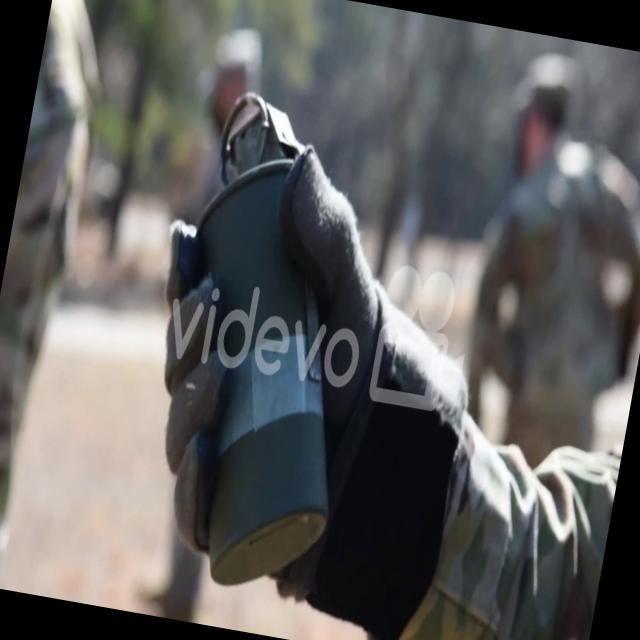grenade: (126, 72, 401, 600)
